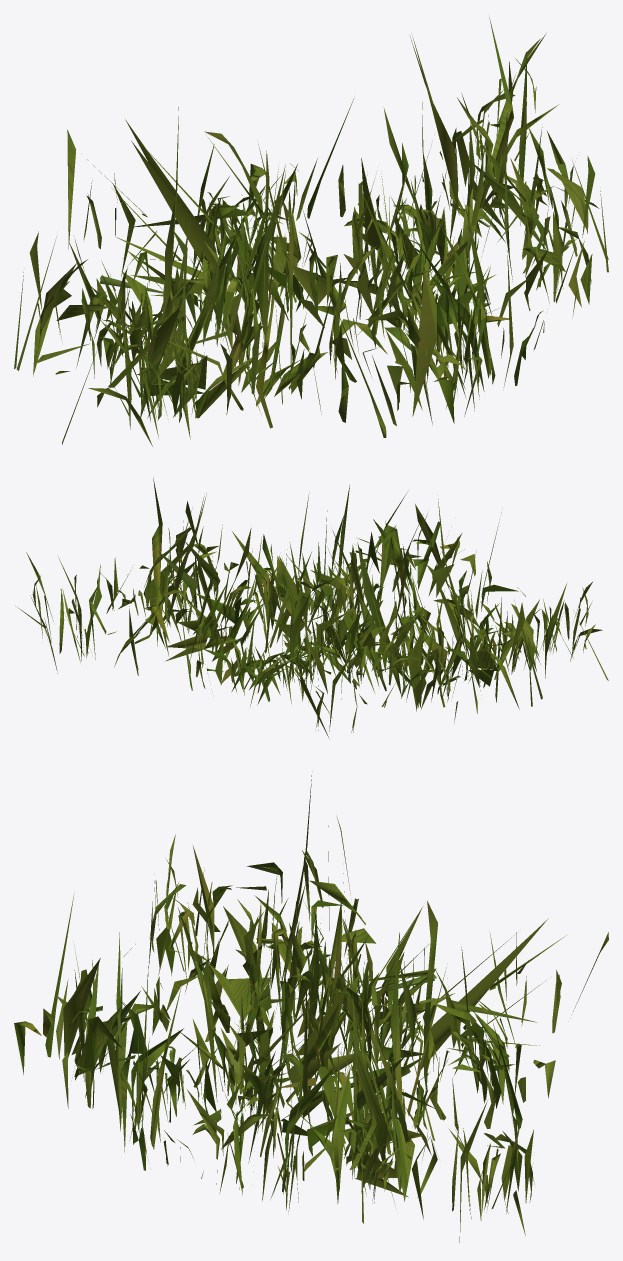
The model's file is grass13.glb.
The picture shows the model from 3 angles, top to bottom: view 1: azimuth 30°, elevation 25°; view 2: azimuth 150°, elevation 25°; view 3: azimuth 270°, elevation 25°; orthographic projection. The views are drawn at different scales.
Parts seen in each view (by area): view 1: Grass Dry 01.002; view 2: Grass Dry 01.002; view 3: Grass Dry 01.002.
Part boxes in pixels (x1=…): Grass Dry 01.002: x1=14, y1=17, x2=608, y2=446; Grass Dry 01.002: x1=17, y1=478, x2=608, y2=739; Grass Dry 01.002: x1=14, y1=771, x2=608, y2=1242.
Size of the model in its own units: 0.8245 by 0.3793 by 0.652.
1 material, 1 textured.
